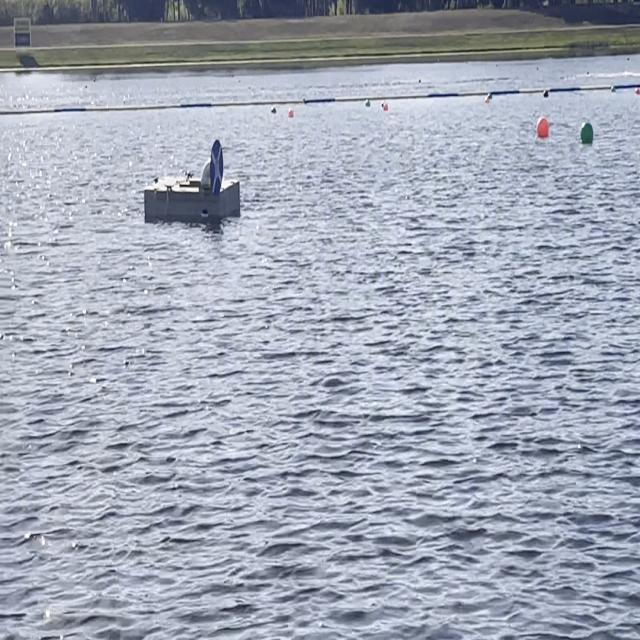buoy: (565, 100, 604, 162), (528, 104, 554, 152), (360, 96, 376, 112), (381, 98, 393, 118), (286, 106, 298, 122), (270, 104, 279, 120)
